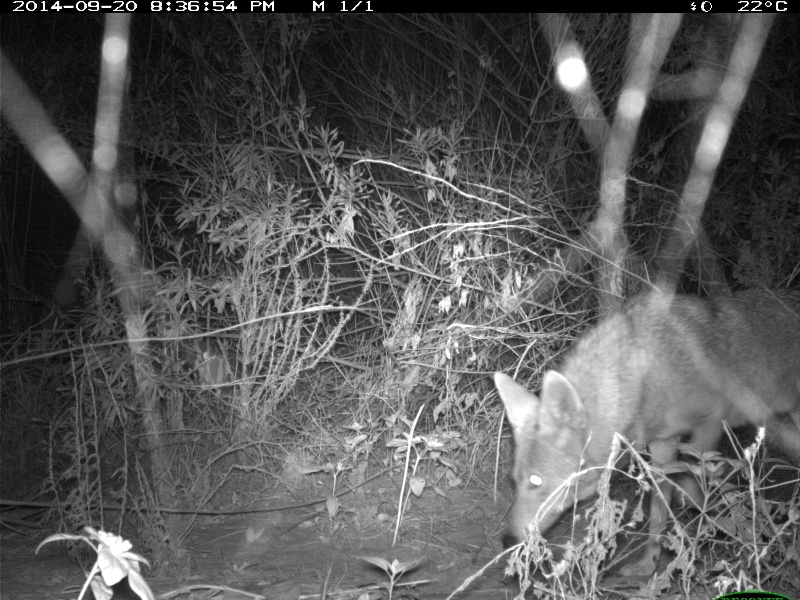coyote: (488, 282, 800, 580)
